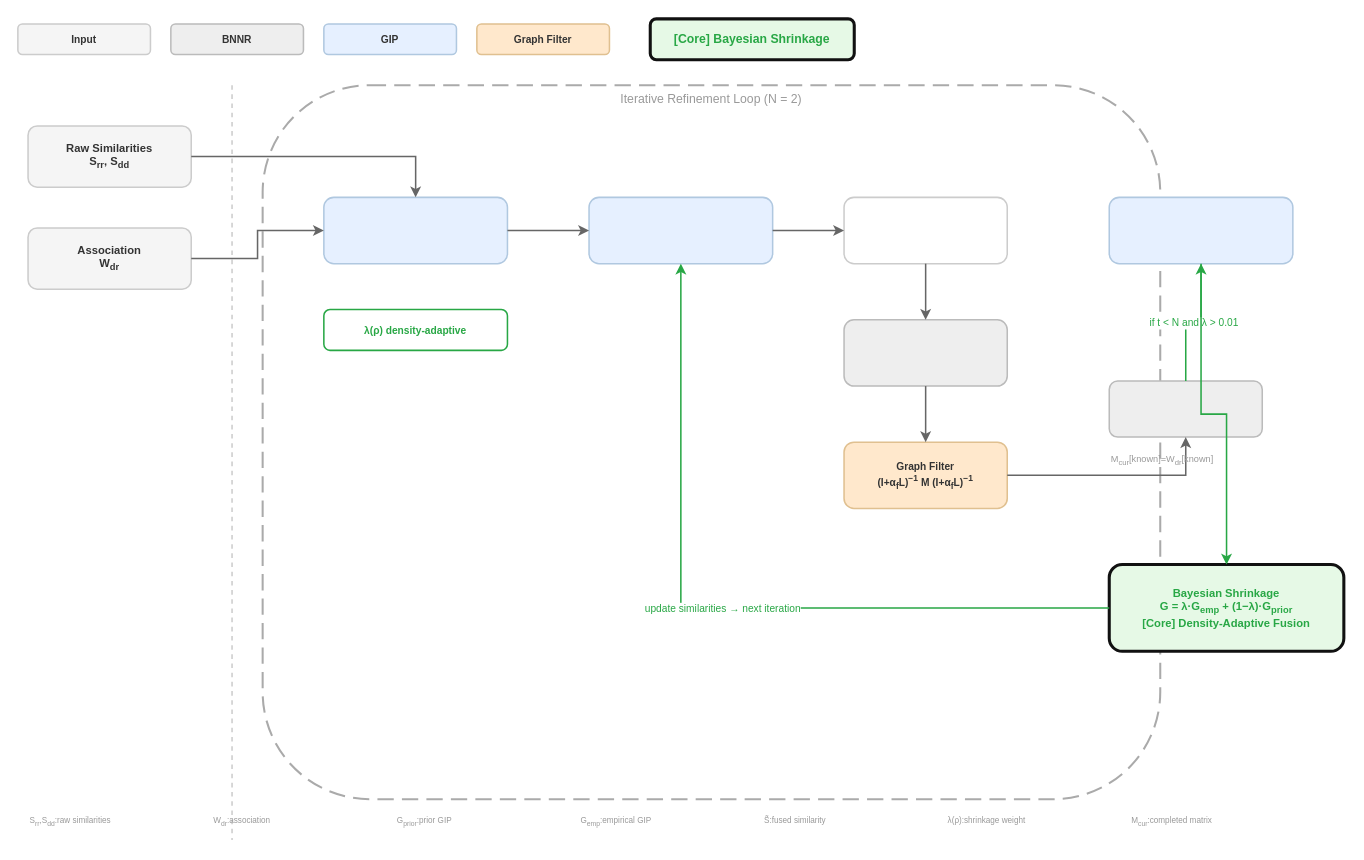
Image size: 1364x860. Some labels were removed from this diagram. The centre of each missing label's shape, as x and y in pixels:
"BNNR ADMM W / SVT / Y update" belongs at pixel 925 352.
"Build Augmented T = [S̃, M cur ]" belongs at pixel 925 230.
"Empirical GIP G emp" belongs at pixel 1200 230.
"Fused Similarities S̃" belongs at pixel 680 230.
"M cur" belongs at pixel 1185 408.
"Prior GIP G prior" belongs at pixel 415 230.
